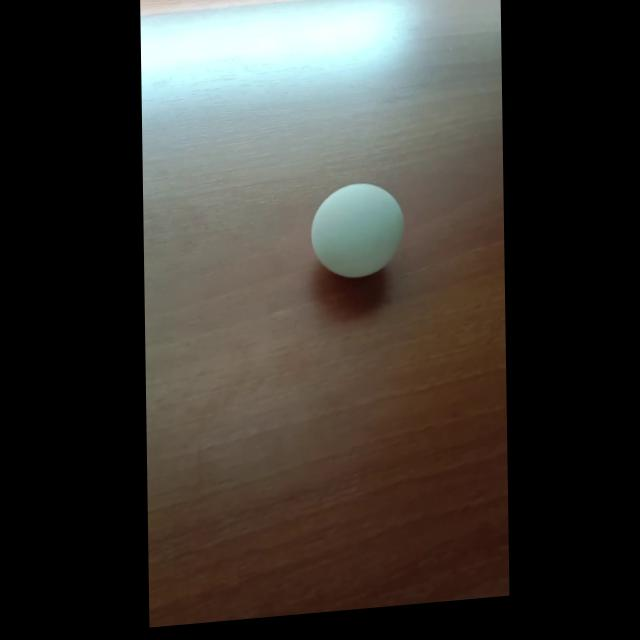white ball: (310, 178, 406, 283)
